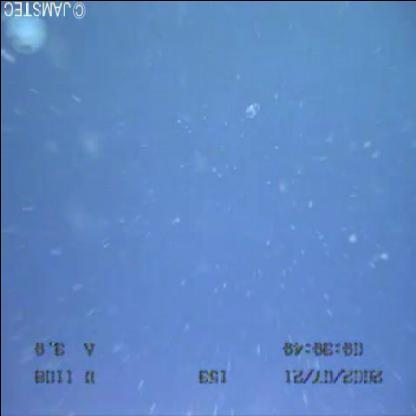Rác: (0, 9, 58, 67)
